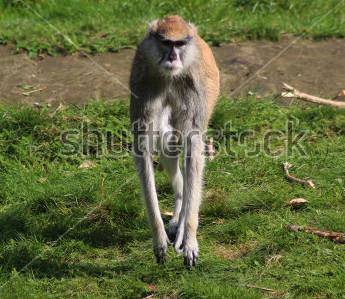monkey: (129, 17, 220, 268)
